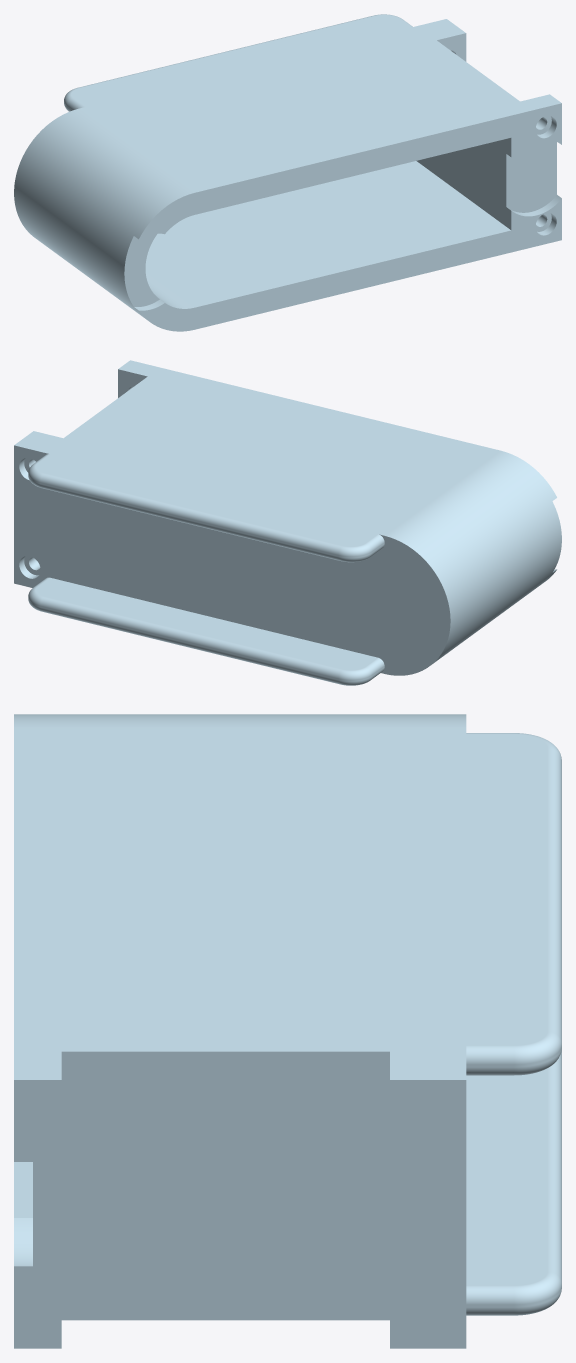
The model's file is _MfgOCFQSaiTe_sQ0m.gltf.
3 views of the same model, one above another, from view 1: azimuth 30°, elevation 25°; view 2: azimuth 150°, elevation 25°; view 3: azimuth 270°, elevation 25° (orthographic). The views are drawn at different scales.
Parts seen in each view (by area): view 1: SnakeTail; view 2: SnakeTail; view 3: SnakeTail.
Boxes of the visible parts, left/top/right/bottom form: SnakeTail: left=14, top=14, right=561, bottom=331; SnakeTail: left=14, top=360, right=561, bottom=685; SnakeTail: left=14, top=714, right=561, bottom=1348.
Bounding box in the file's own units: 0.1025 × 0.031 × 0.0573.
